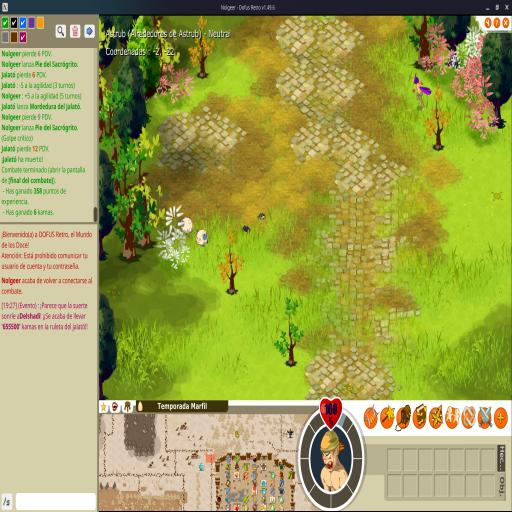Enemigos: (177, 217, 194, 235), (196, 228, 209, 248), (242, 224, 252, 235), (256, 212, 266, 222)
Personaje: (412, 76, 432, 112)
